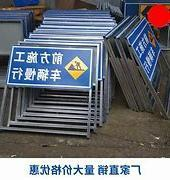sign: (7, 47, 92, 88), (131, 18, 160, 81)
